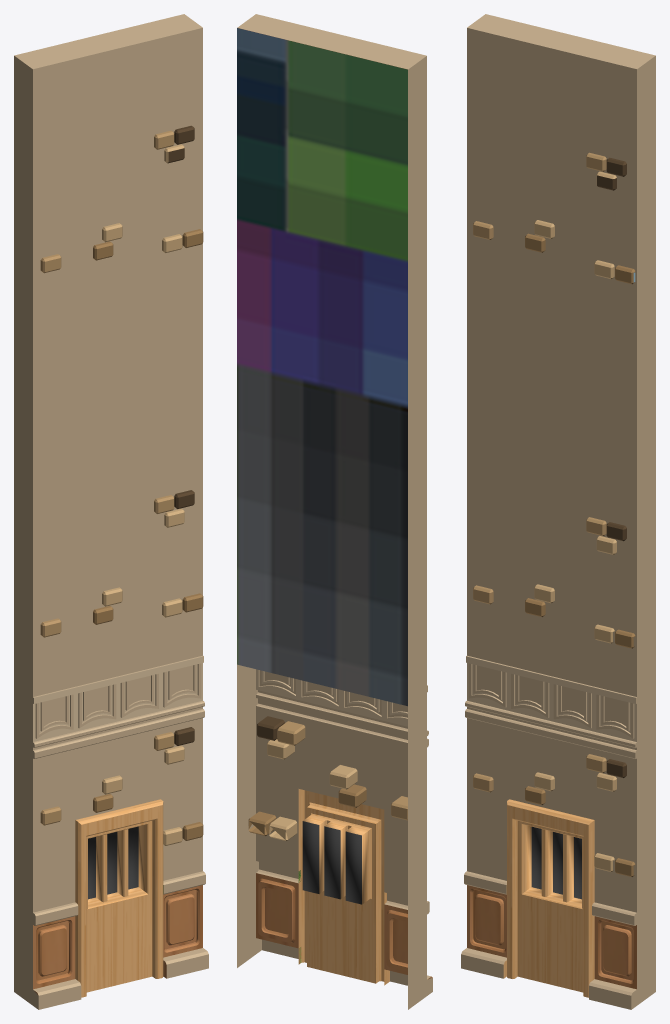
The model's file is Wall 1.fbx.
3 views of the same model, side by side, from view 1: azimuth 30°, elevation 25°; view 2: azimuth 150°, elevation 25°; view 3: azimuth 330°, elevation 25° (orthographic).
Parts seen in each view (by area): view 1: Wall 1; view 2: Wall 1; view 3: Wall 1.
Part boxes in pixels (x1=…): Wall 1: x1=14, y1=14, x2=208, y2=1009; Wall 1: x1=237, y1=14, x2=432, y2=1009; Wall 1: x1=461, y1=14, x2=655, y2=1009.
Size of the model in its own units: 400 by 2102 by 99.99.
